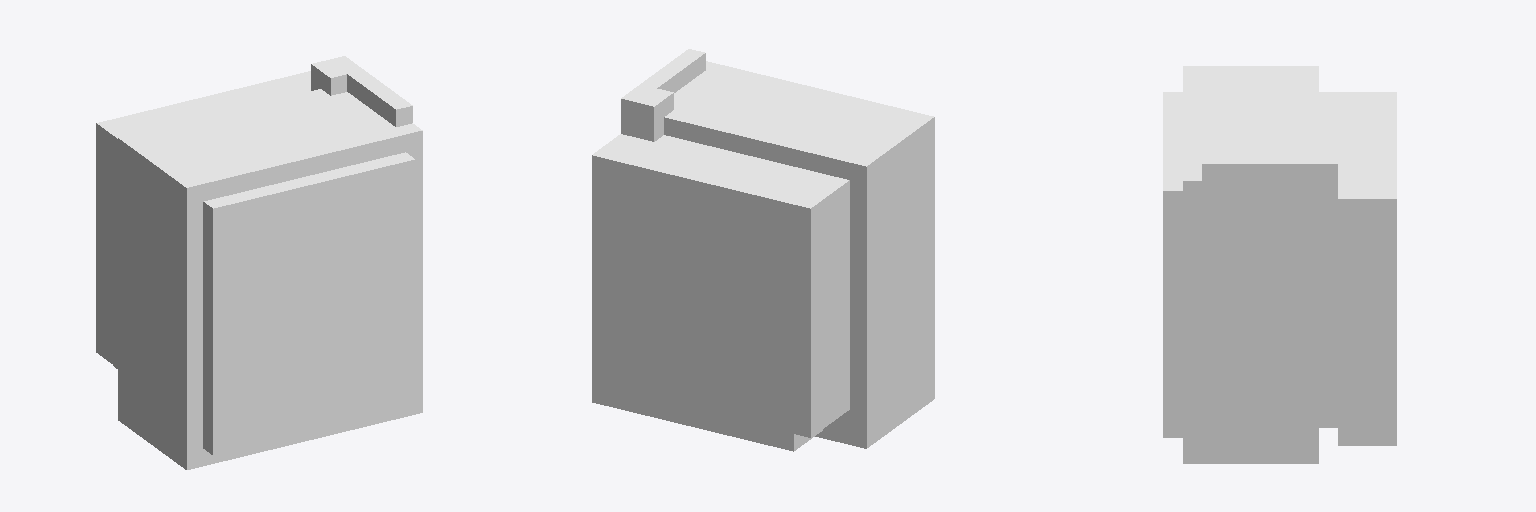
The model's file is JagerNaut-5.obj.
The picture shows the model from 3 angles: view 1: azimuth 30°, elevation 25°; view 2: azimuth 150°, elevation 25°; view 3: azimuth 270°, elevation 25°; orthographic projection.
Visible parts, largest first — view 1: object 1; view 2: object 1; view 3: object 1.
Part boxes in pixels (x1,y1,x2,y2): object 1: (96,56,422,469); object 1: (592,49,934,451); object 1: (1163,66,1396,463).
Bounding box in the file's own units: 1.4 × 1.7 × 1.2.